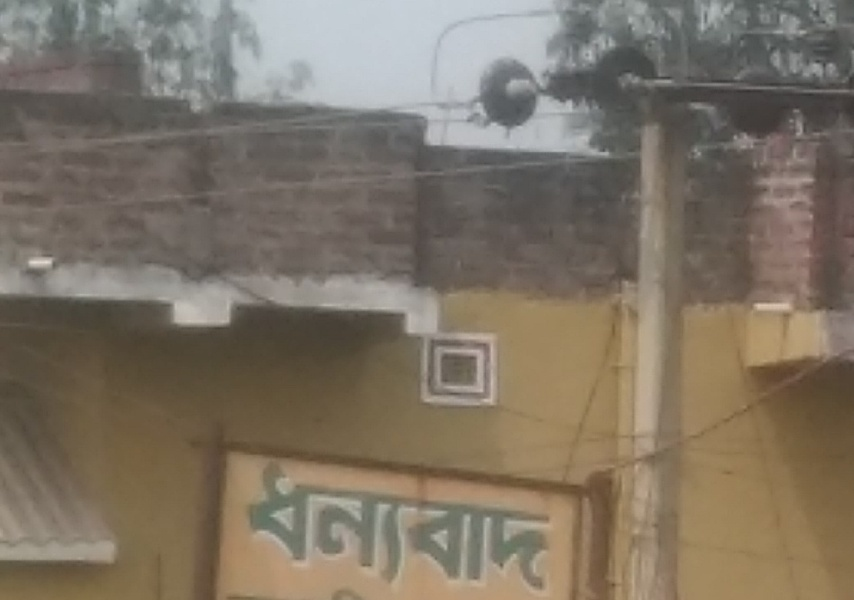text: (257, 456, 272, 595), (273, 456, 288, 595), (289, 456, 304, 595), (305, 456, 320, 595), (321, 456, 336, 595), (337, 456, 352, 595), (353, 456, 368, 595), (369, 456, 384, 595), (385, 456, 400, 595), (401, 456, 416, 595), (417, 456, 432, 595), (433, 456, 448, 595), (449, 456, 464, 595), (465, 456, 480, 595), (481, 456, 496, 595), (497, 456, 512, 595), (513, 456, 528, 595), (529, 456, 544, 595), (545, 456, 560, 595), (242, 456, 256, 595), (561, 456, 564, 595), (353, 584, 369, 599), (337, 584, 352, 599), (323, 584, 336, 599)
